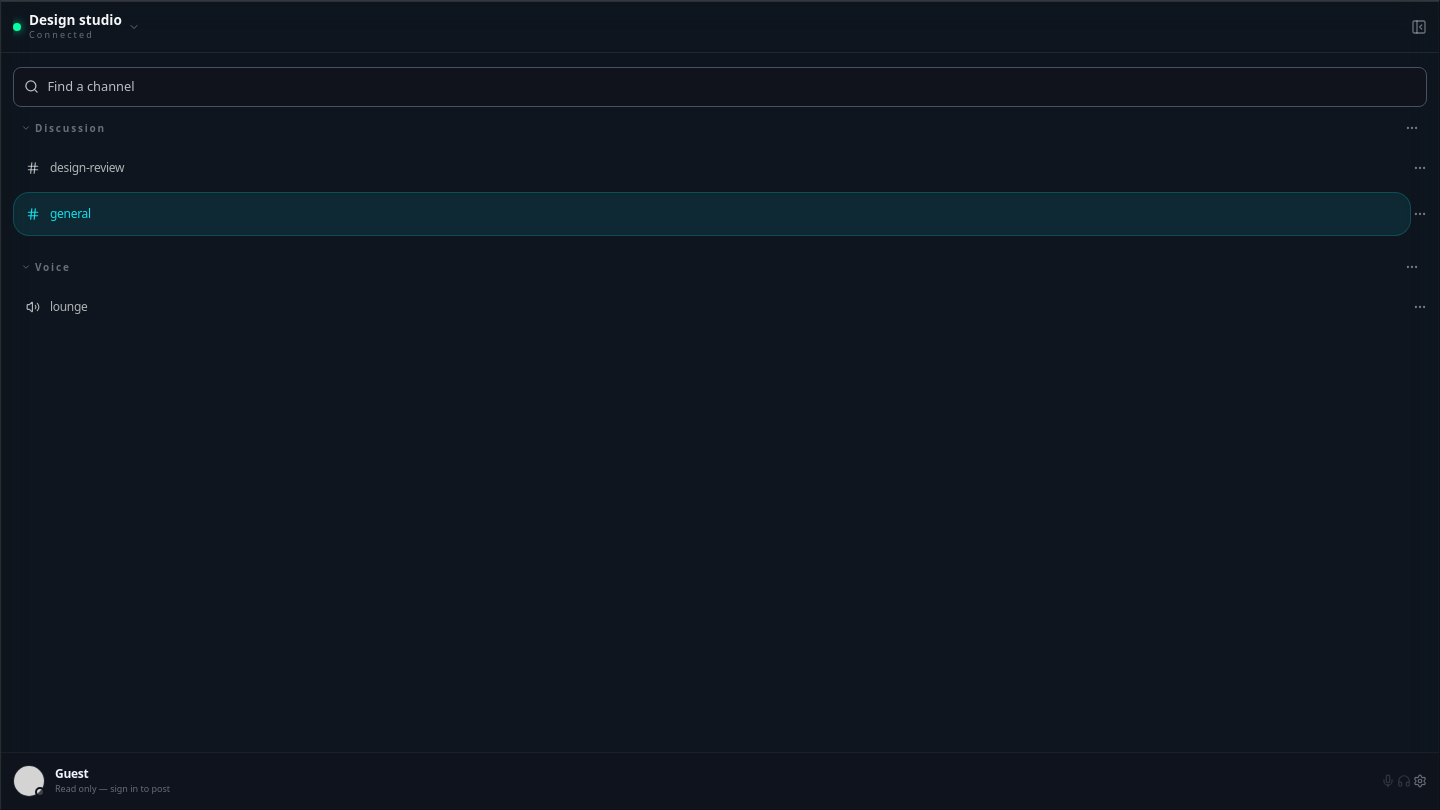
Test: ChannelRail local navigation filter › finds channels inside collapsed categories and restores the collapsed state on clear
Click the button with aria-label "Collapse Discussion": (70, 128) [21,121,1405,136]
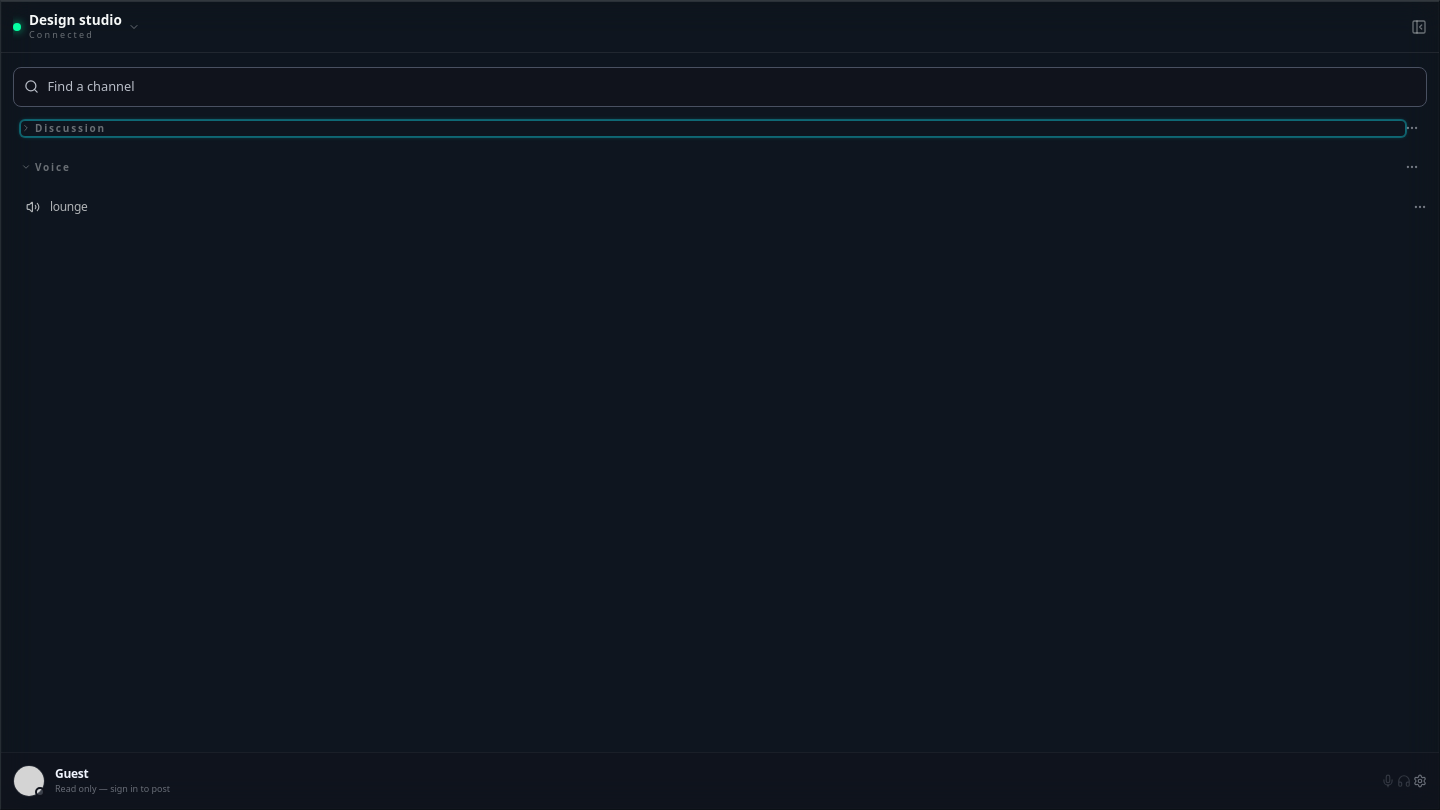
Expected: the button "design-review" is gone
In the search field named "Filter channels": (735, 87) [47,77,1423,96], type "DESIGN"
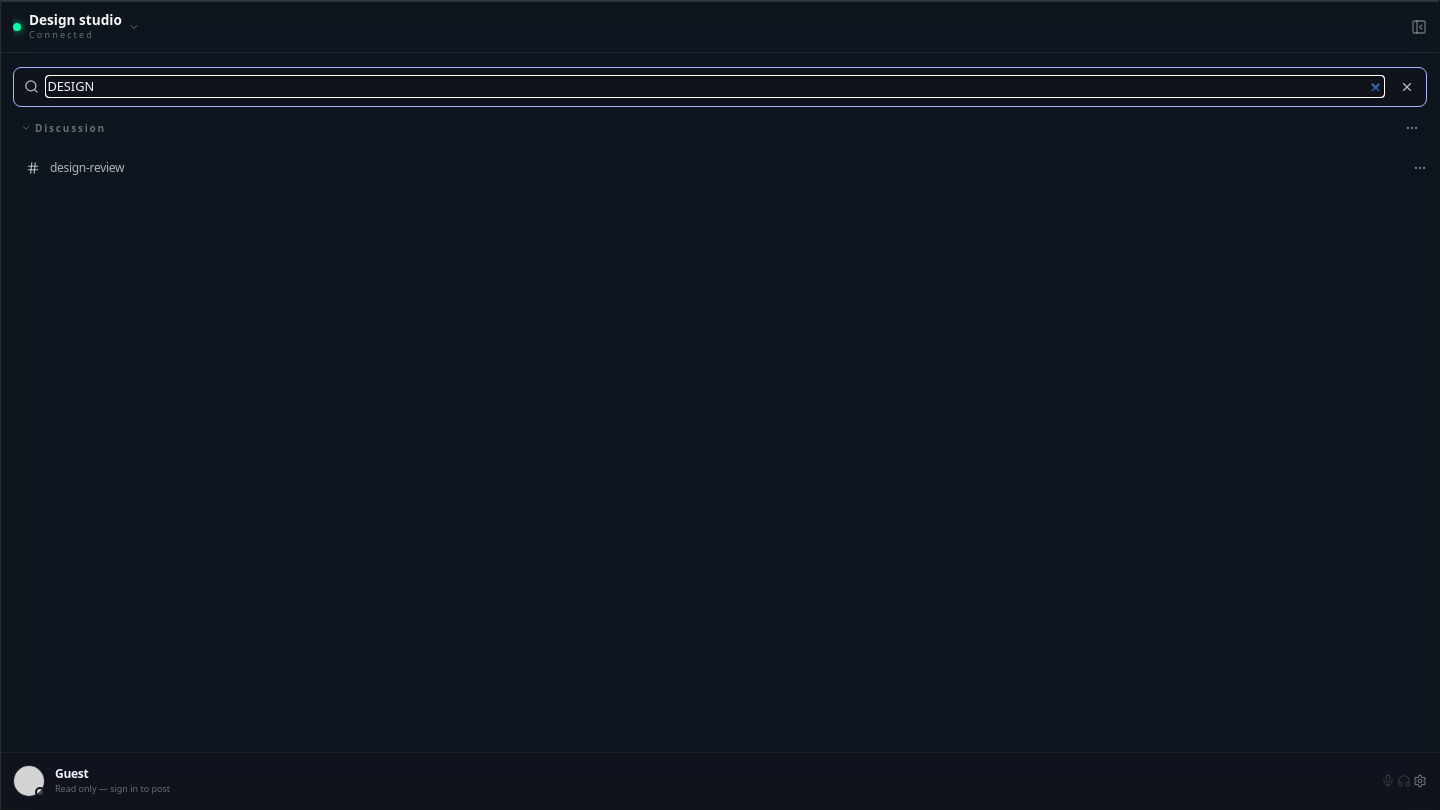
Expected: the button "general" is not shown
Expected: the text "design-review" is shown, [50,159,124,176]
Expected: the button with aria-label "Discussion (filtered results)" is disabled
Click the button with aria-label "Discussion (filtered results)": (70, 128) [21,121,1405,136]
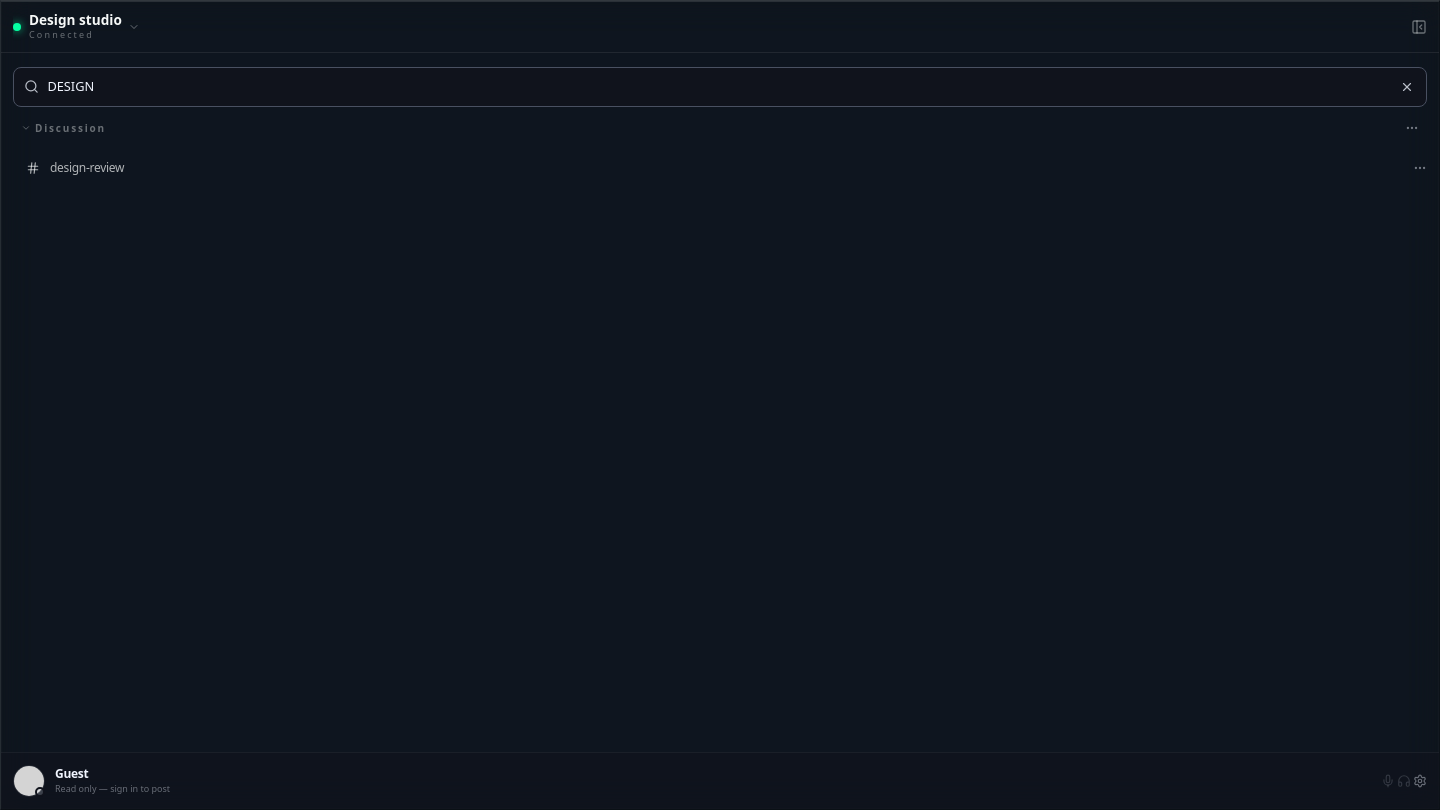
Click the button named "Clear navigation filter": (1407, 87) [1391,69,1423,105]
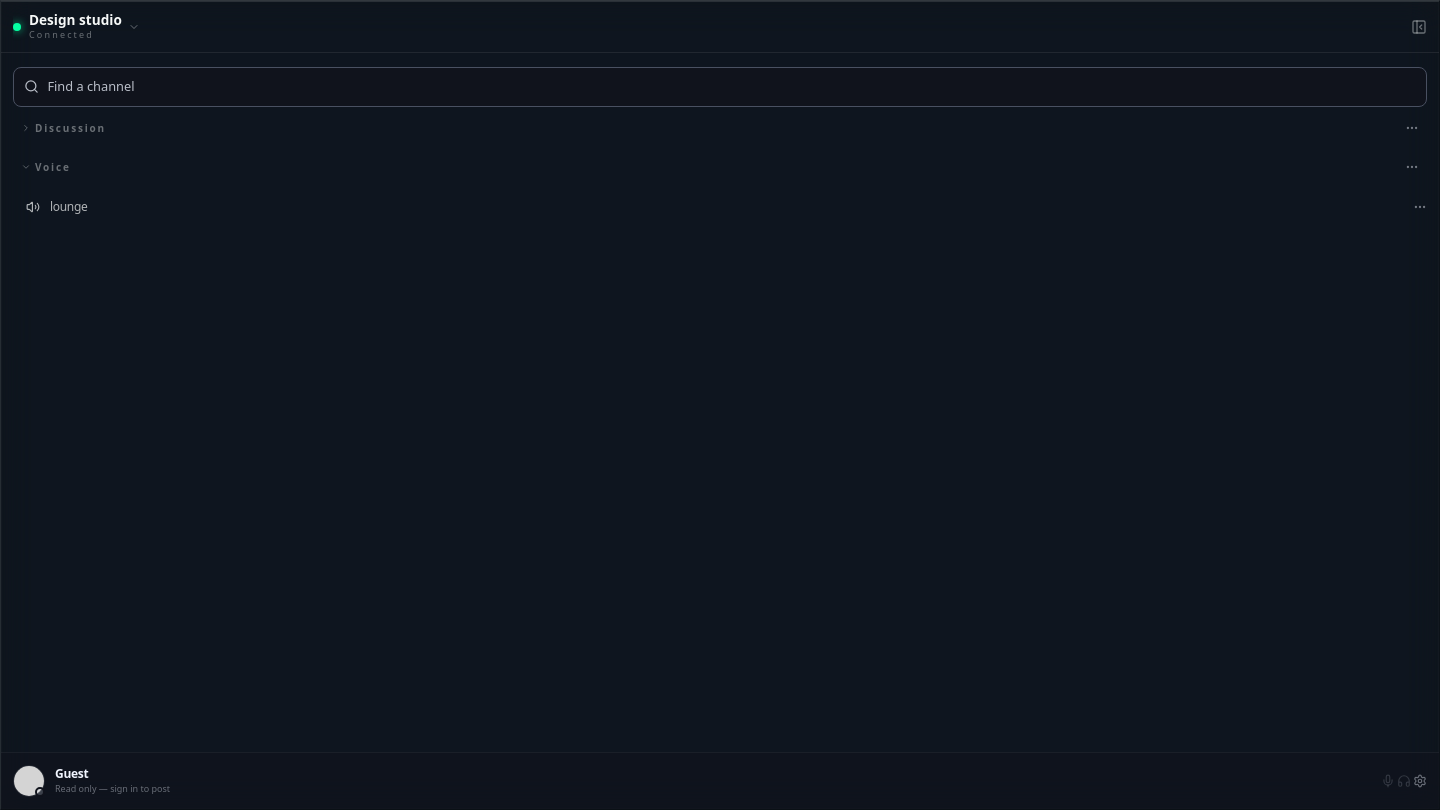
Expected: the button "design-review" is gone
